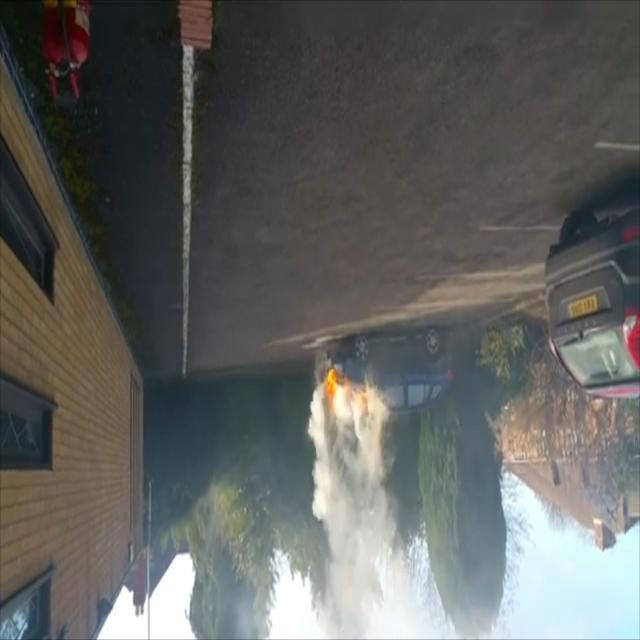fire: (323, 360, 381, 430)
